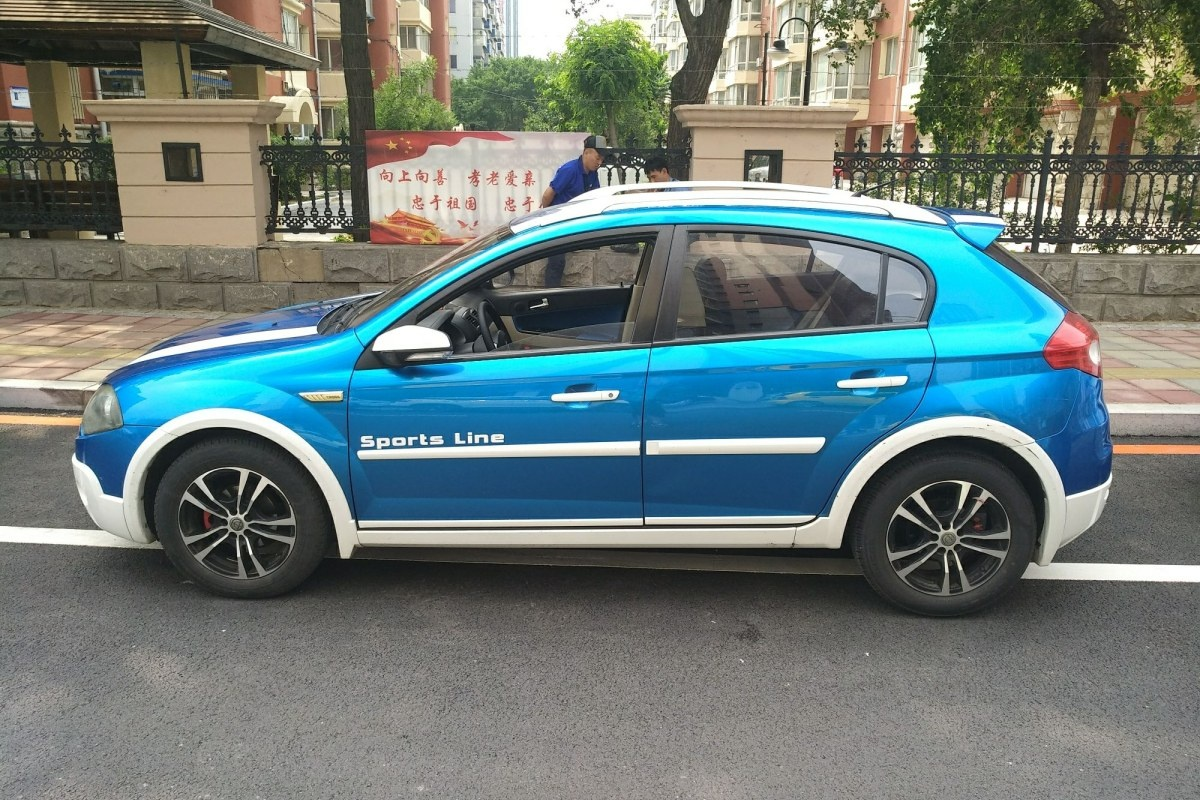family sedan: (78, 168, 1099, 615)
